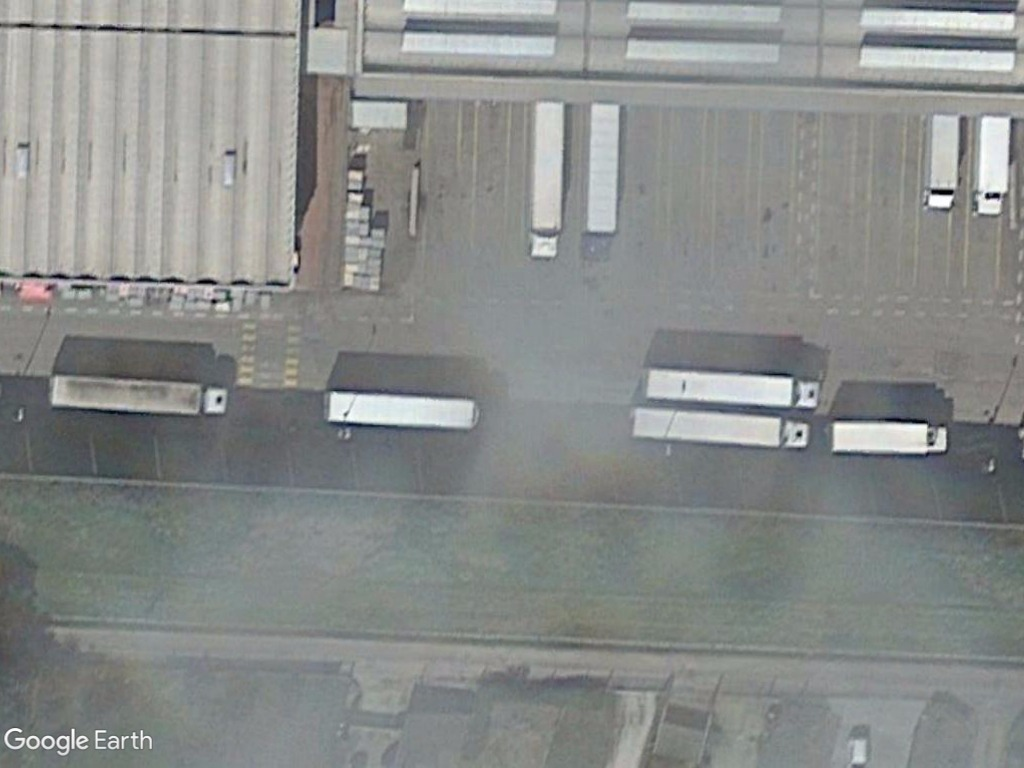longvehicle: (636, 362, 823, 413), (45, 372, 231, 420), (631, 405, 813, 453), (321, 387, 486, 436), (524, 99, 571, 261), (582, 100, 623, 266), (821, 415, 951, 459)
truck: (970, 109, 1014, 217), (922, 109, 965, 215)
